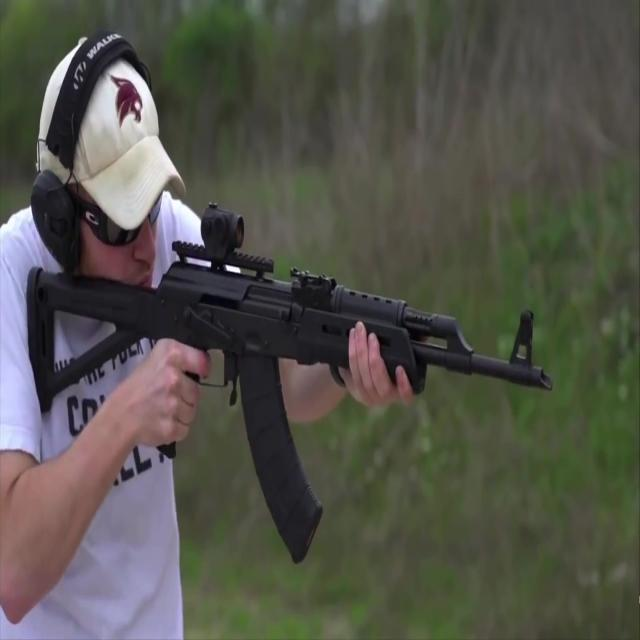Weapon: (14, 198, 560, 582)
